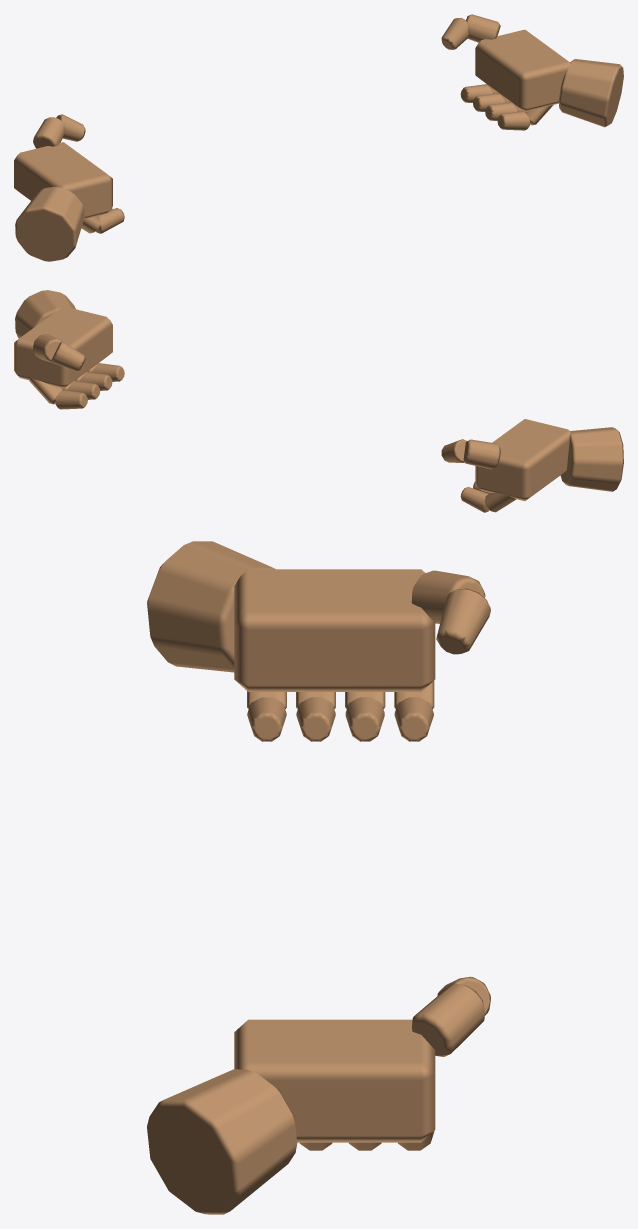
Rendered from GoldFxPanHands.glb.
3 renders of one model, top to bottom at view 1: azimuth 30°, elevation 25°; view 2: azimuth 150°, elevation 25°; view 3: azimuth 270°, elevation 25°, orthographic. The views are drawn at different scales.
Visible parts, largest first — view 1: GoldFxPanHands.001; view 2: GoldFxPanHands.001; view 3: GoldFxPanHands.001.
Part boxes in pixels (left/top/right/bottom): GoldFxPanHands.001: left=14, top=14, right=623, bottom=261; GoldFxPanHands.001: left=14, top=290, right=623, bottom=512; GoldFxPanHands.001: left=147, top=541, right=490, bottom=1214.
Size of the model in its own units: 0.5997 by 0.0746 by 0.1473.
